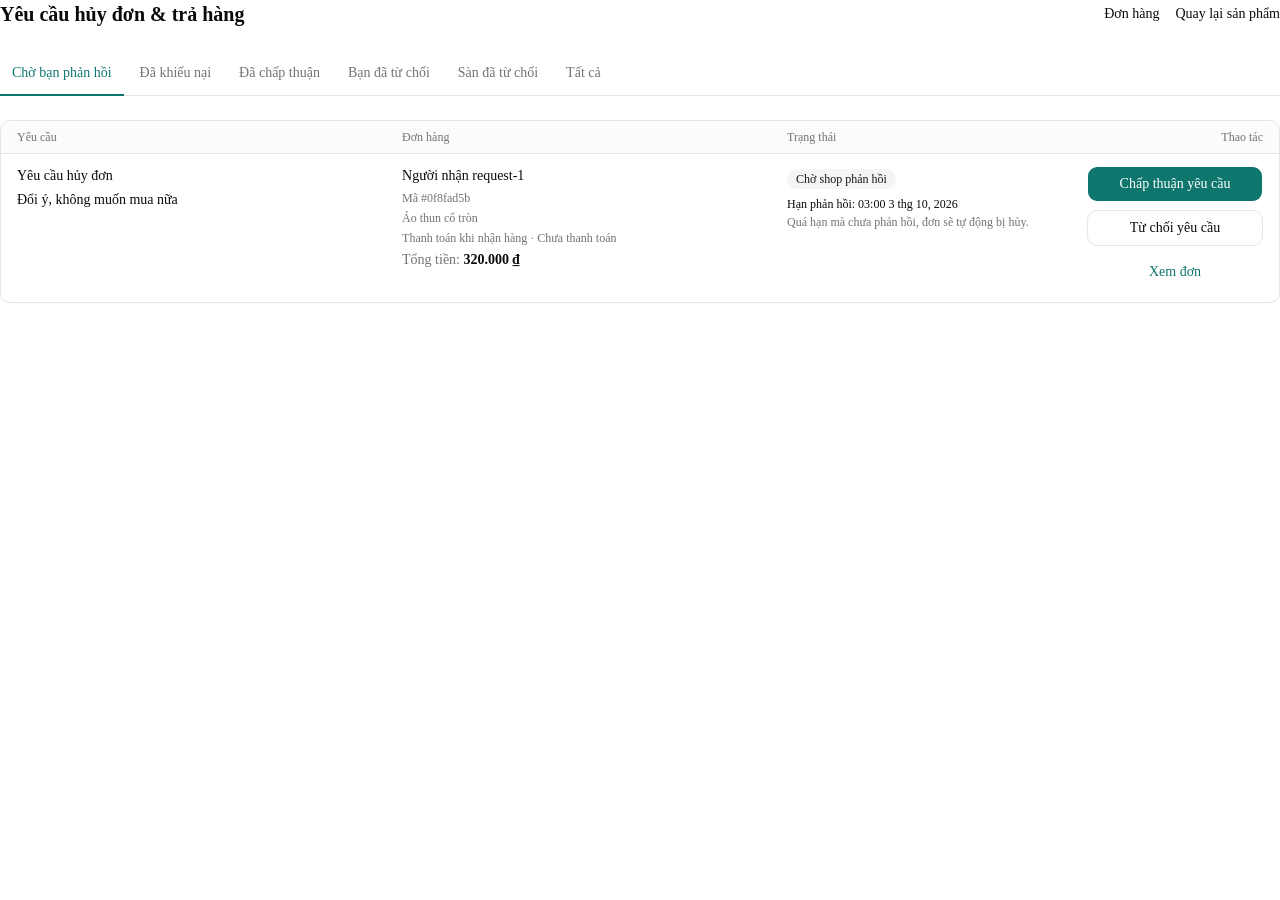
SellerRefundRequestsContainer › duyệt bị 409 (người mua vừa rút): thông báo lỗi đã dịch ở đầu danh sách, không toast thành công
What coordinates should you click on to do the following:
click the button "Chấp thuận yêu cầu"
I would click on:
 (1175, 184)
Its box is [1087,166,1263,202].
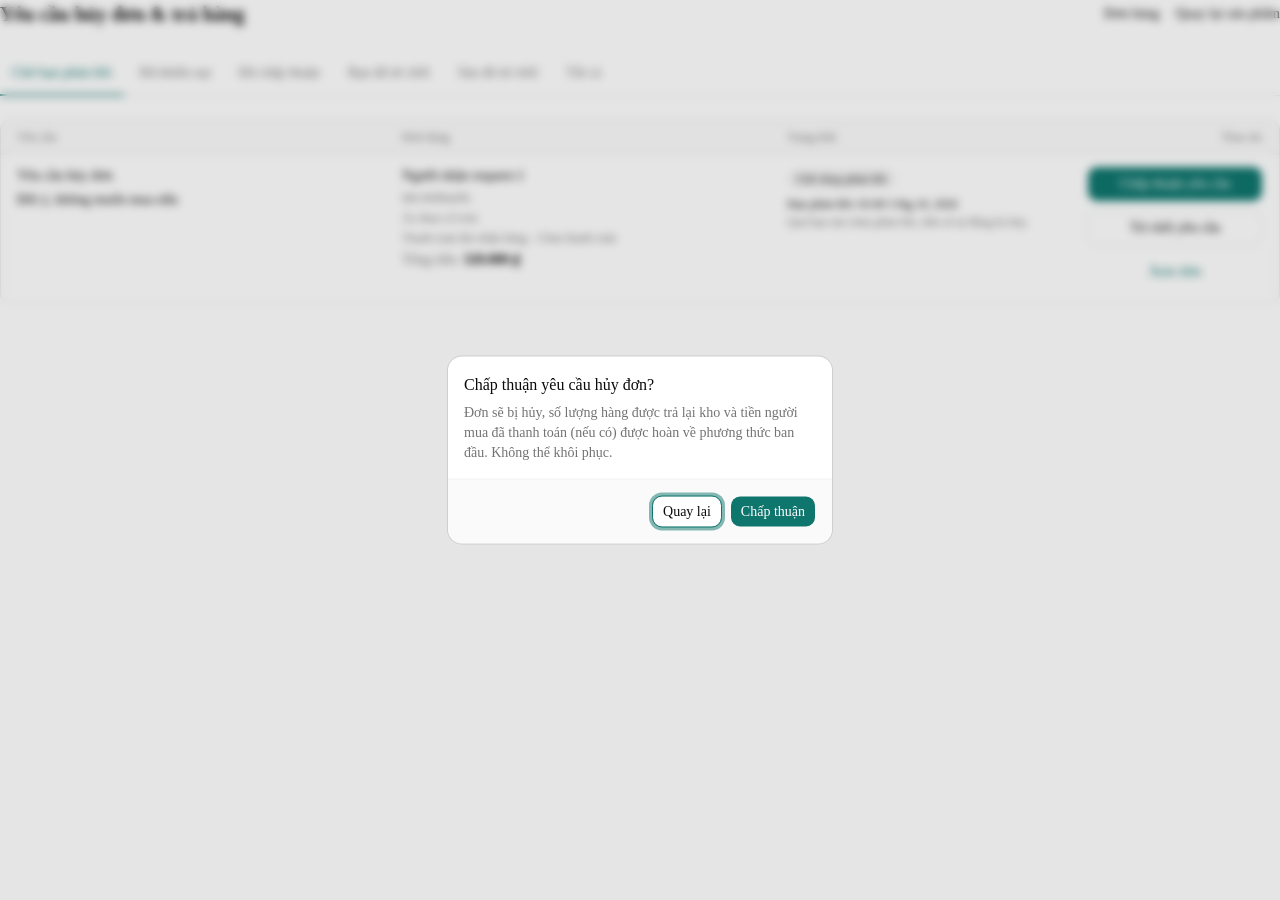
What coordinates should you click on to do the following:
click the button "Chấp thuận"
I would click on:
 (773, 512)
Its box is [730,496,816,528].
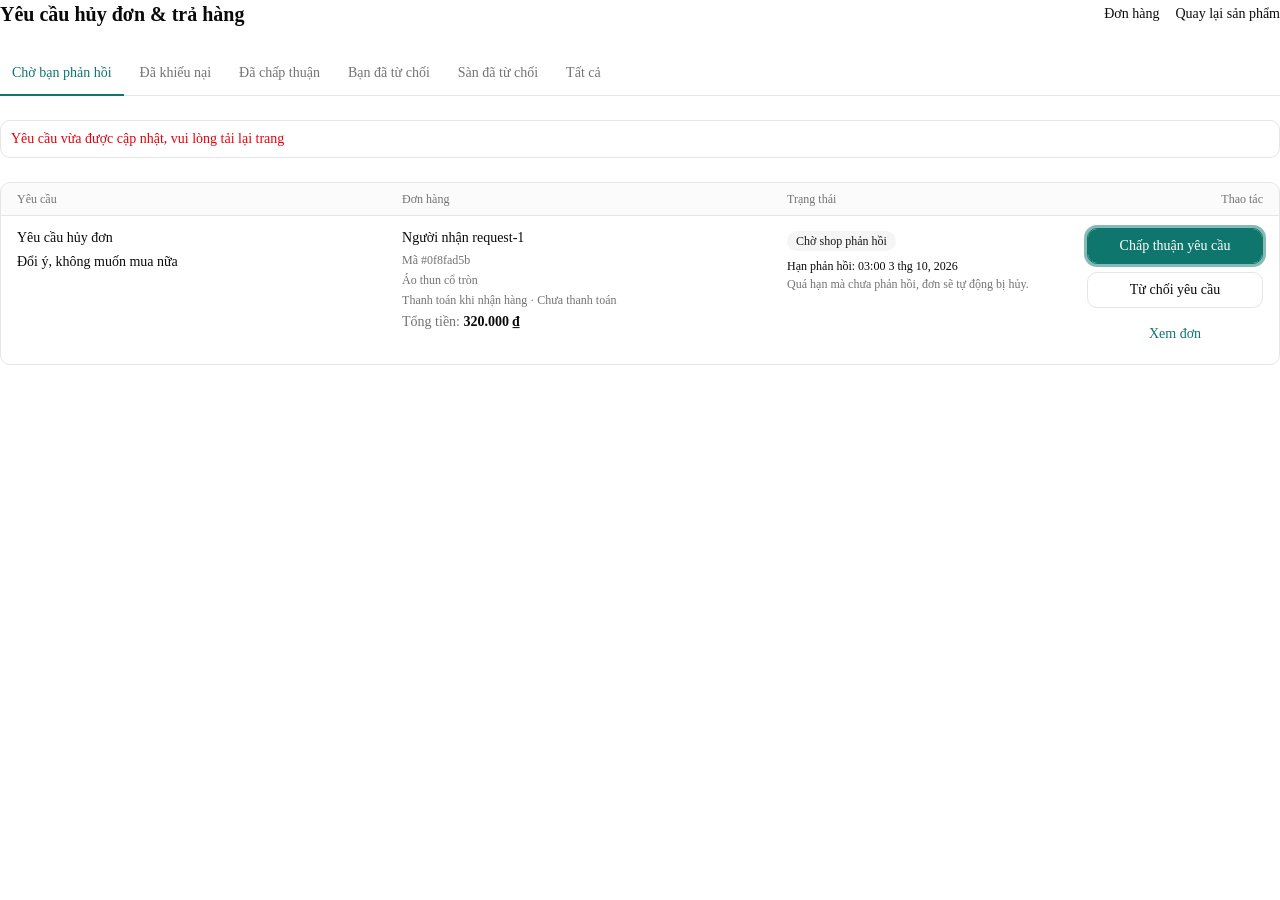
Now the text "Yêu cầu vừa được cập nhật, vui lòng tải lại trang" is shown, box [0,120,1279,158]
